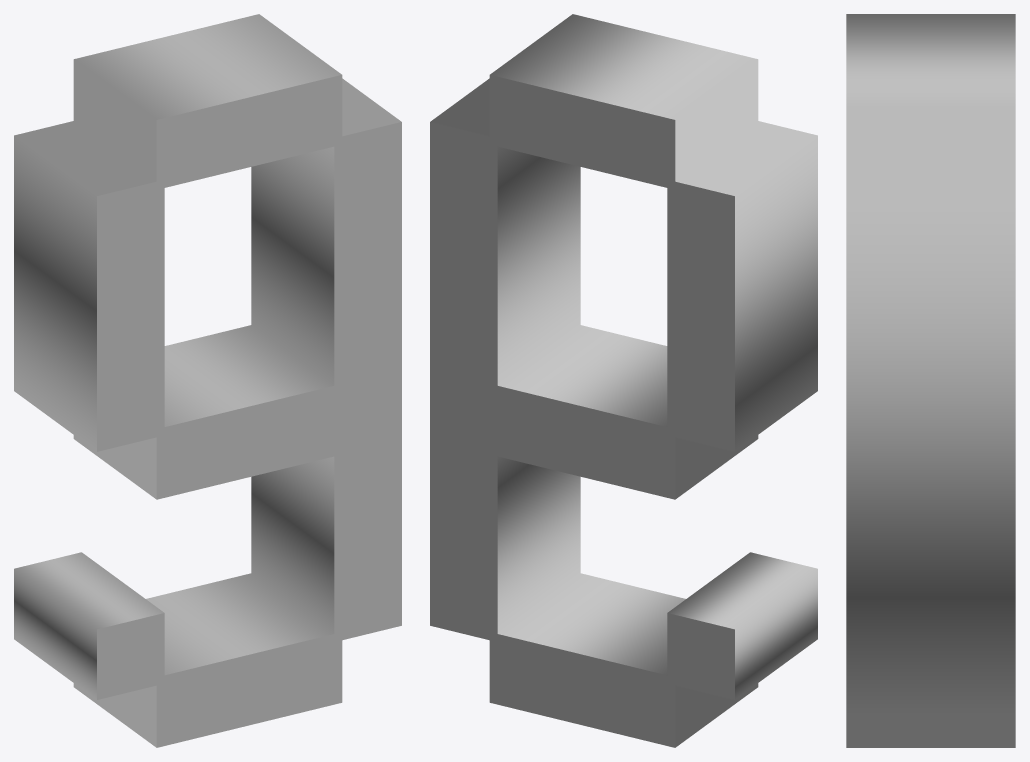
Rendered from number_9.fbx.
3 views of the same model, side by side, from view 1: azimuth 30°, elevation 25°; view 2: azimuth 150°, elevation 25°; view 3: azimuth 270°, elevation 25° (orthographic). The views are drawn at different scales.
Visible parts, largest first — view 1: 9; view 2: 9; view 3: 9.
Boxes of the visible parts, bbox=[...] form: 9: bbox=[14, 14, 401, 747]; 9: bbox=[430, 14, 817, 747]; 9: bbox=[846, 14, 1015, 747].
Bounding box in the file's own units: 84.8 × 167 × 40.
